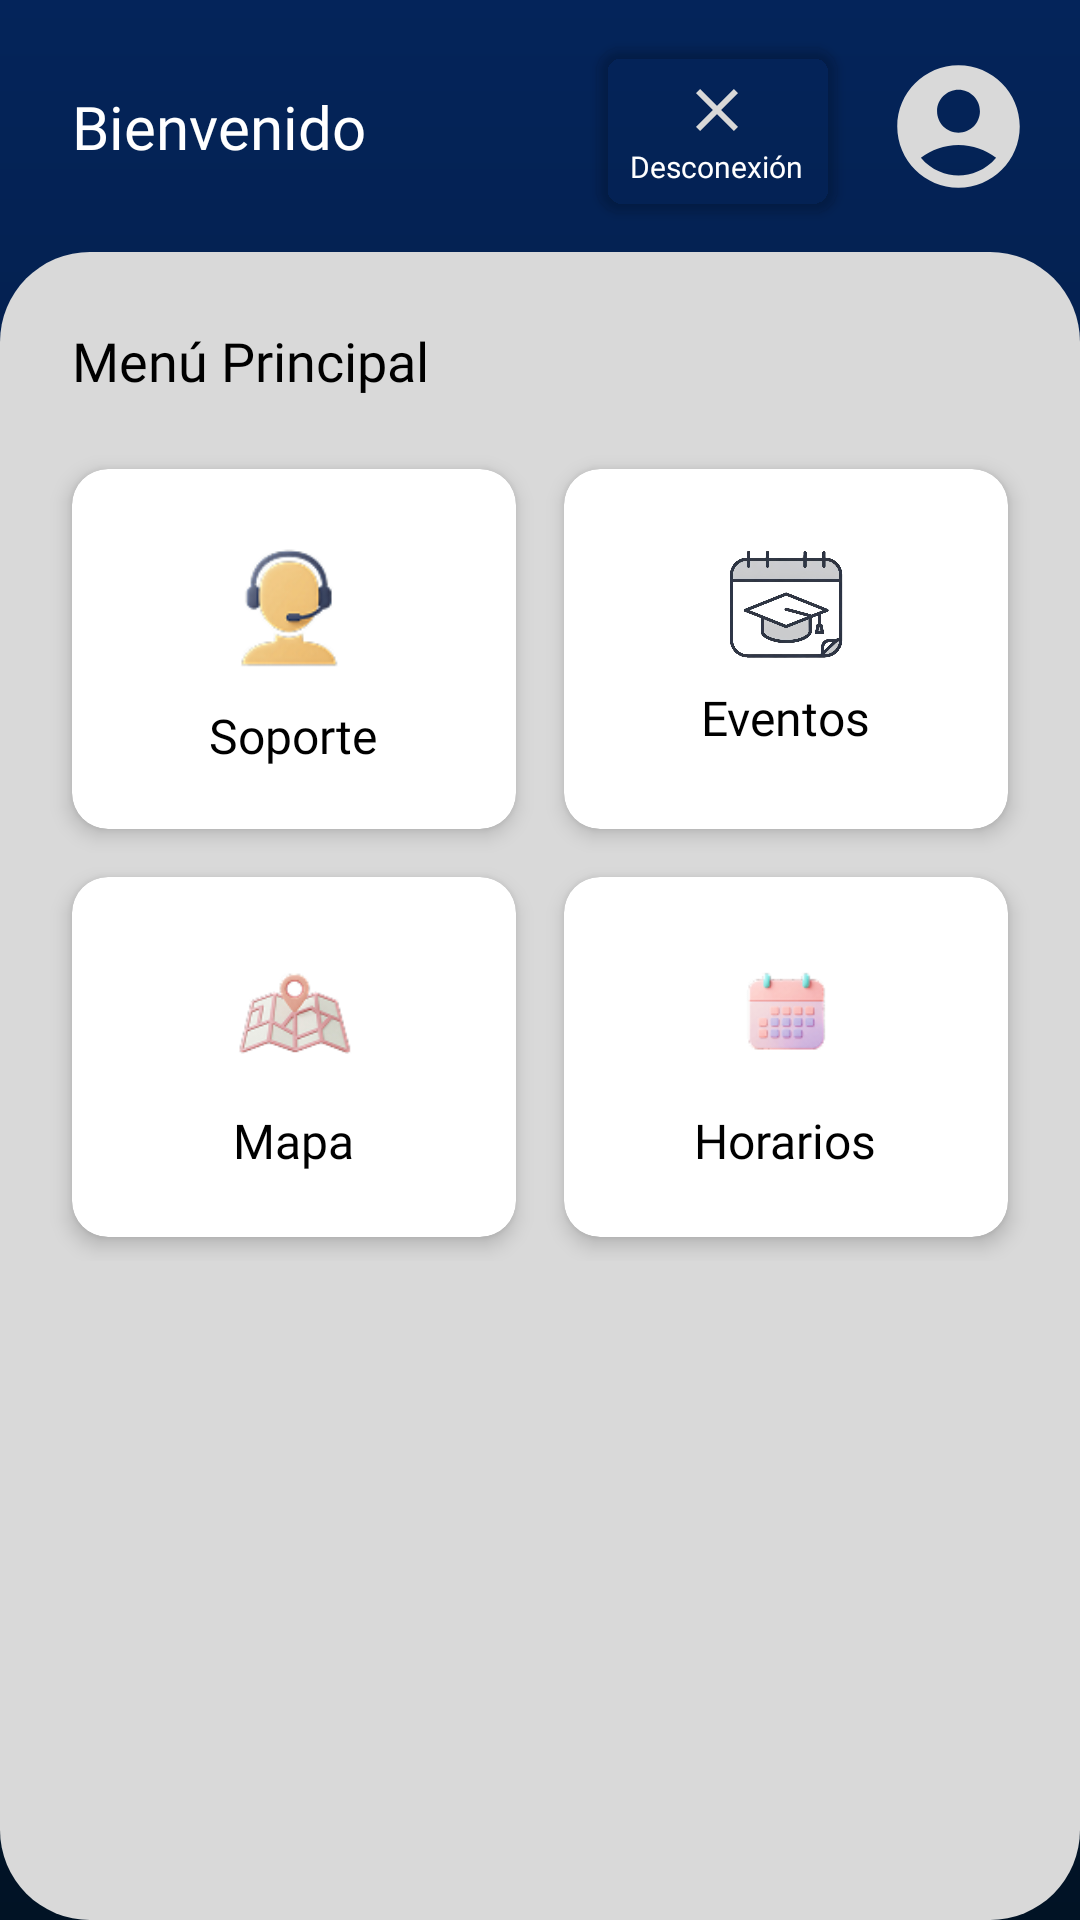

Icon bounding boxes for this 1080px×1920px phone screenshot, format (x1, y1, x2, y2):
calendario: (749, 973, 825, 1050)
cuenta: (897, 65, 1020, 188)
